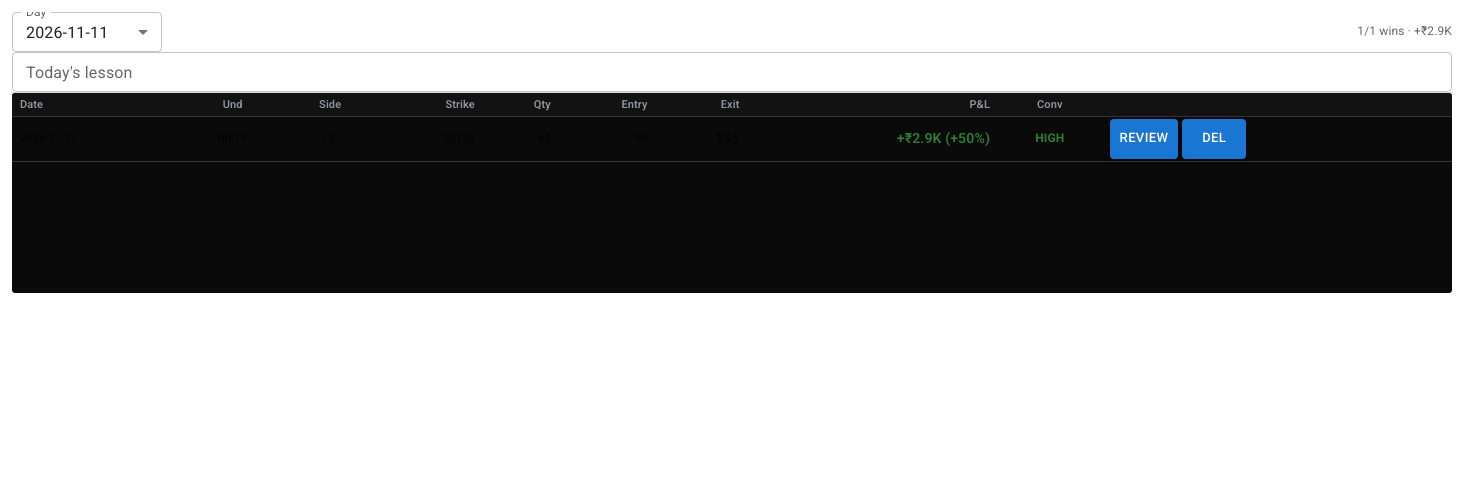
Scenario: DiaryStrip review › shows conviction and opens the revisit editor
Expected: the text "HIGH" is shown, [1035, 131, 1064, 145]
Step 1. Click the button with test id "diary-review-t1" → (1144, 138), box [1110, 118, 1178, 158]
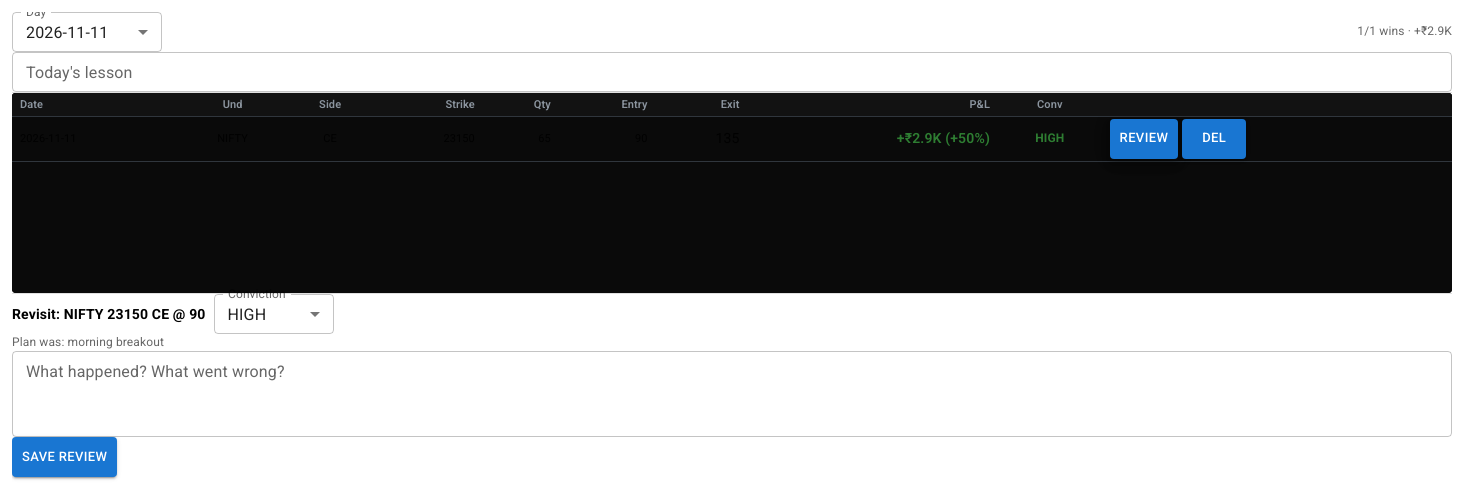
Expected: the element with test id "diary-review-panel-t1" is shown, [12, 293, 1452, 477]
Expected: the text with test id "diary-plan-t1" shows "morning breakout", [68, 335, 164, 349]
